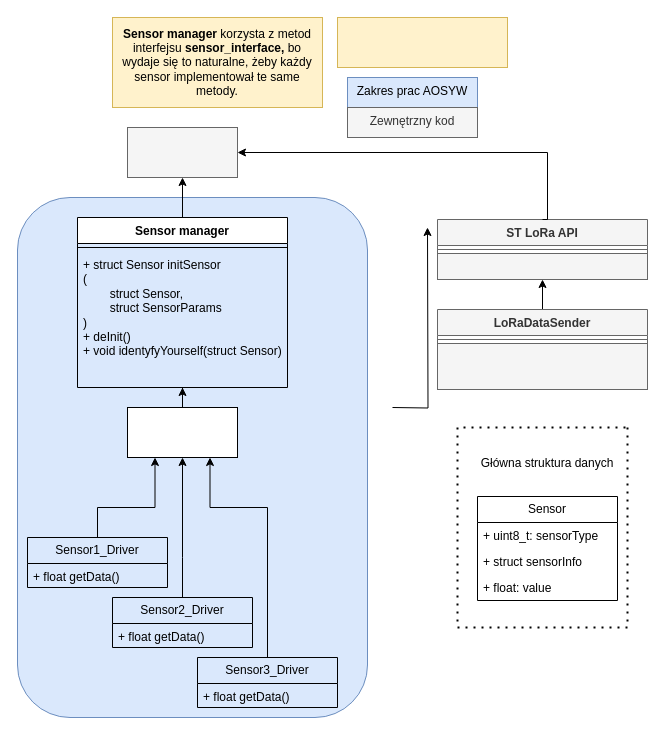
This 665x735 diagram has some shape labels left out. Here are the shapes that lost their labels. From the top down, the centre of each, then its label:
At (422,42): "SensorX to np. DS18B20, czujnik odległości, czujnik wilgoci itd.".
At (182,152): "Aplikacja".
At (542,266): "+ void send ( )".
At (542,366): "+ void send ( struct Sensor)".
At (182,432): "«interface» sensor_interface".
